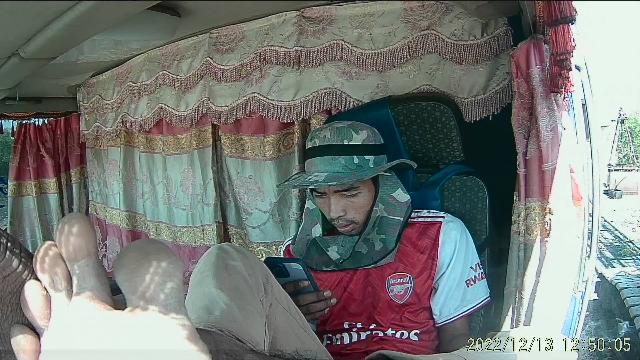Phone: (262, 256, 320, 306)
